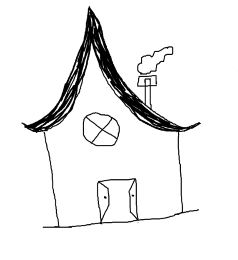closed_window: (81, 111, 122, 148)
door: (91, 170, 147, 230)
shaded_roof: (21, 4, 201, 134)
smoking_chimney: (127, 38, 184, 108)
wall: (43, 101, 184, 230)
